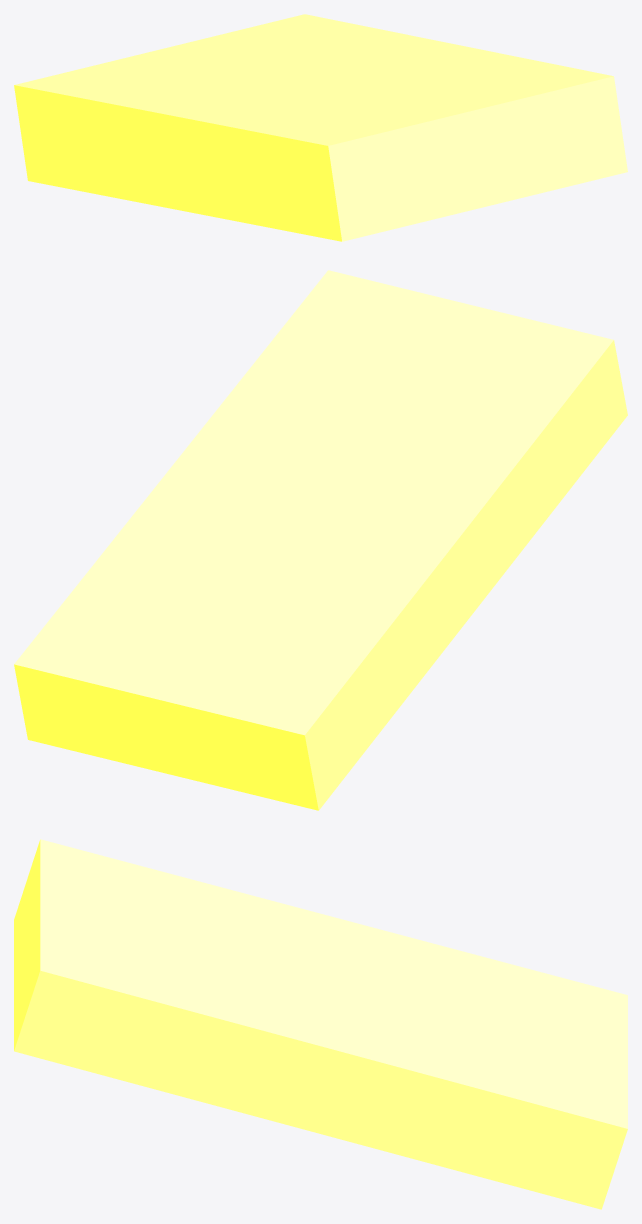
The model's file is EndPlatformSocketLight.fbx.
The picture shows the model from 3 angles, top to bottom: view 1: azimuth 30°, elevation 25°; view 2: azimuth 150°, elevation 25°; view 3: azimuth 270°, elevation 25°; orthographic projection. The views are drawn at different scales.
Parts seen in each view (by area): view 1: SocketLight; view 2: SocketLight; view 3: SocketLight.
Boxes of the visible parts, x1,y1,x2,y2 form: SocketLight: [14, 14, 627, 241]; SocketLight: [14, 270, 627, 810]; SocketLight: [14, 839, 627, 1209].
Bounding box in the file's own units: 26.25 × 21.77 × 50.91.
